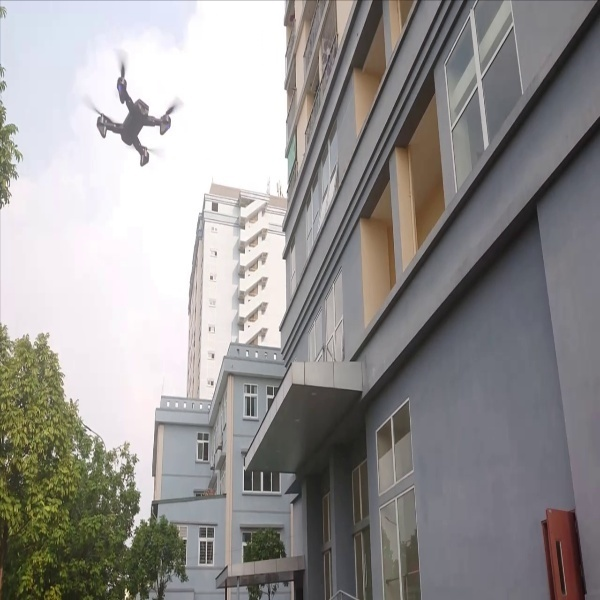drone: (78, 49, 188, 176)
